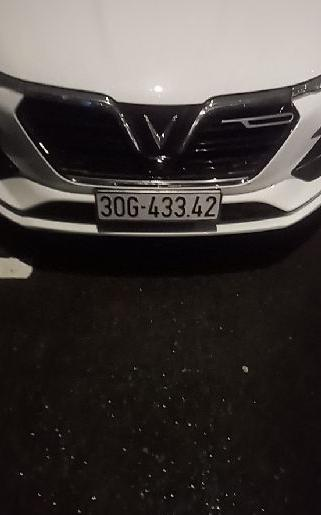Plate-iWeP: (97, 193, 220, 221)
